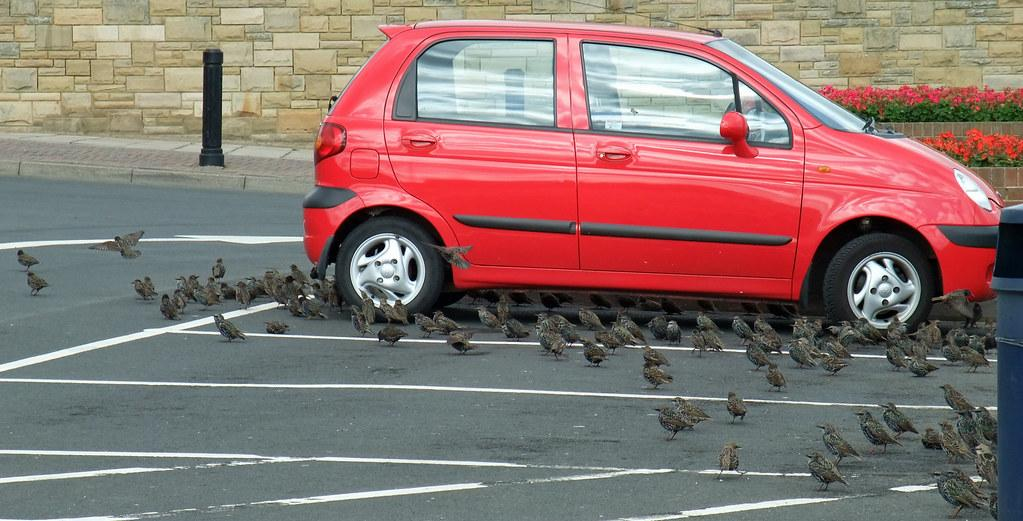car: (302, 19, 1006, 337)
